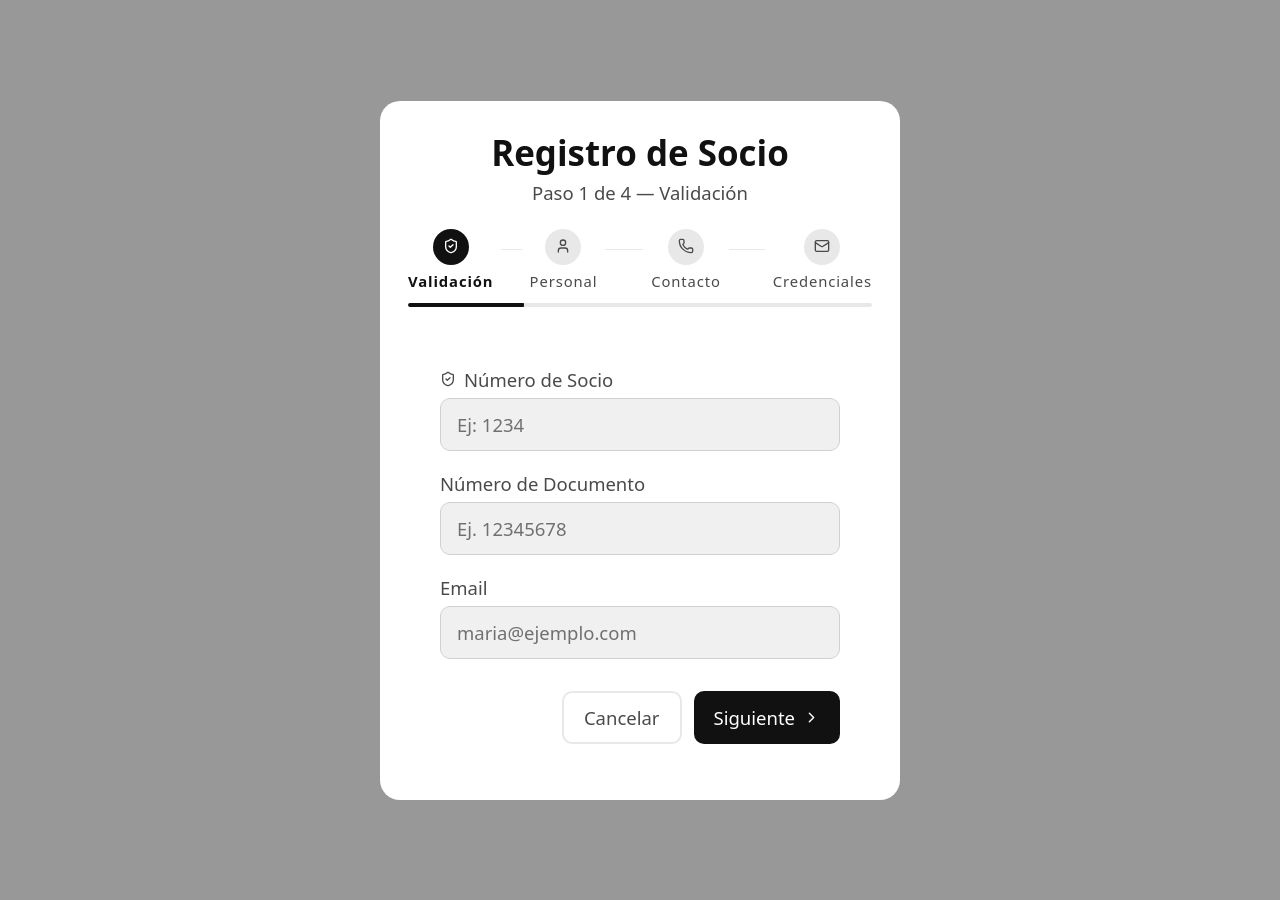
Test: RegistroSocioForm › muestra errores de validación si se intenta avanzar con campos vacíos
The width and height of the screenshot is (1280, 900).
Click the button "Siguiente" at {"x": 767, "y": 717}, box [694, 690, 840, 744]
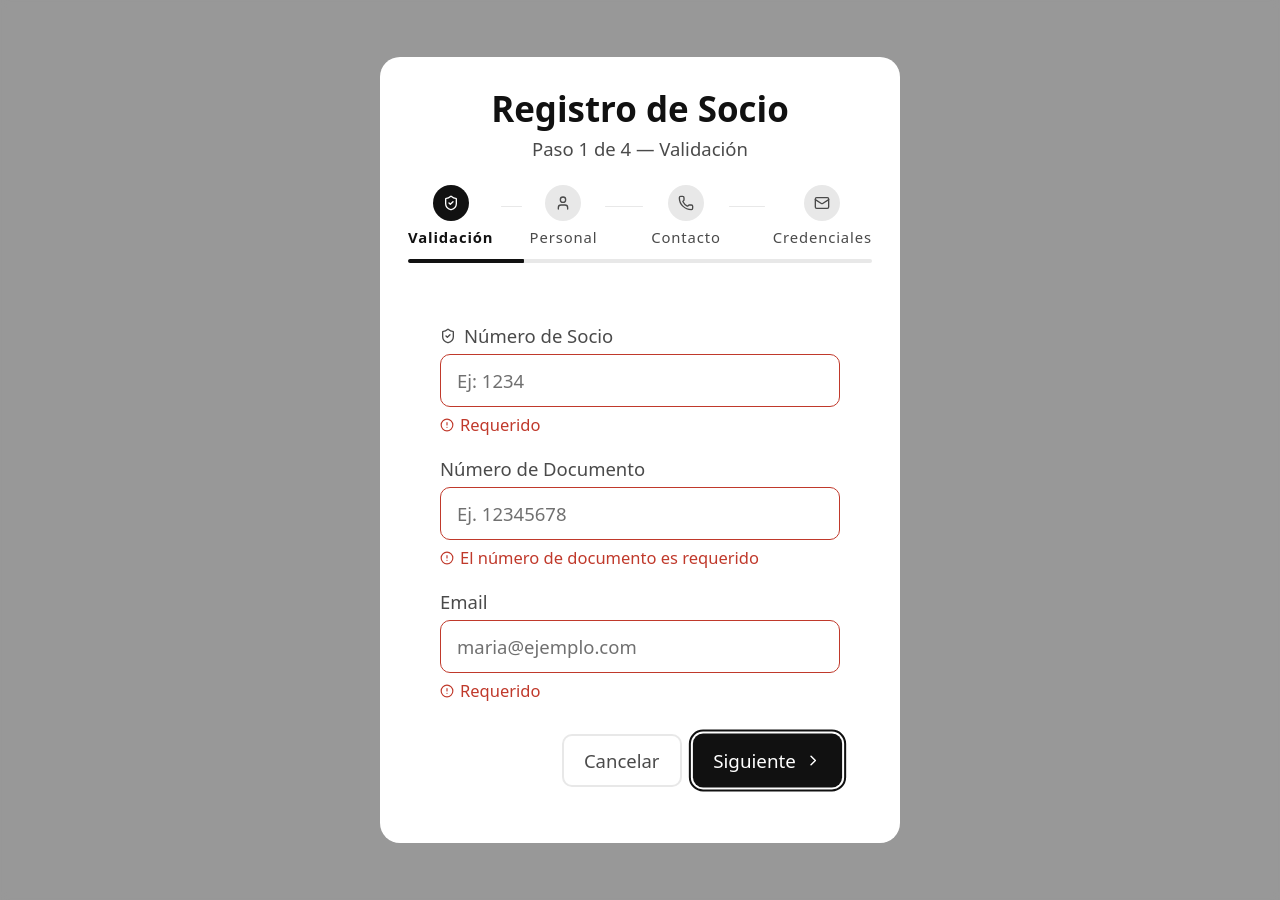
Now the text "Requerido" below "Número de Socio" is shown, box [460, 413, 540, 436]
